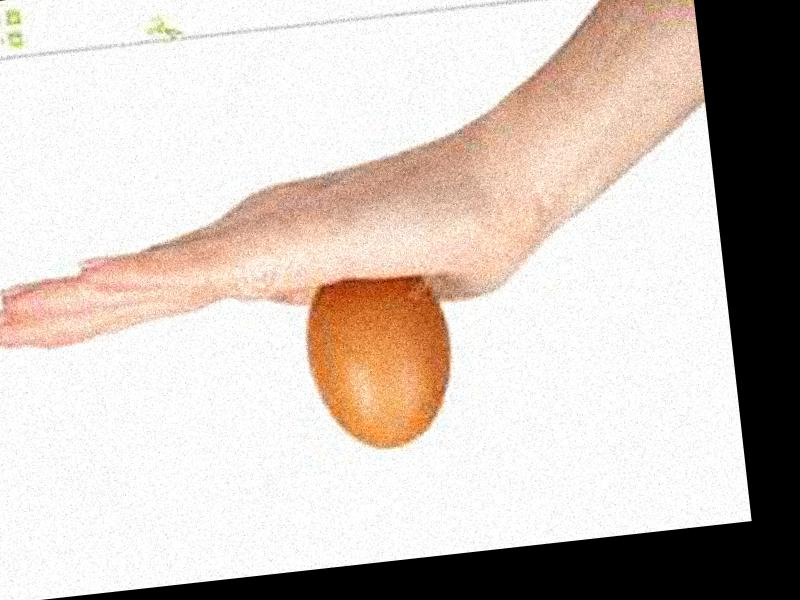Eggs: (299, 266, 457, 455)
